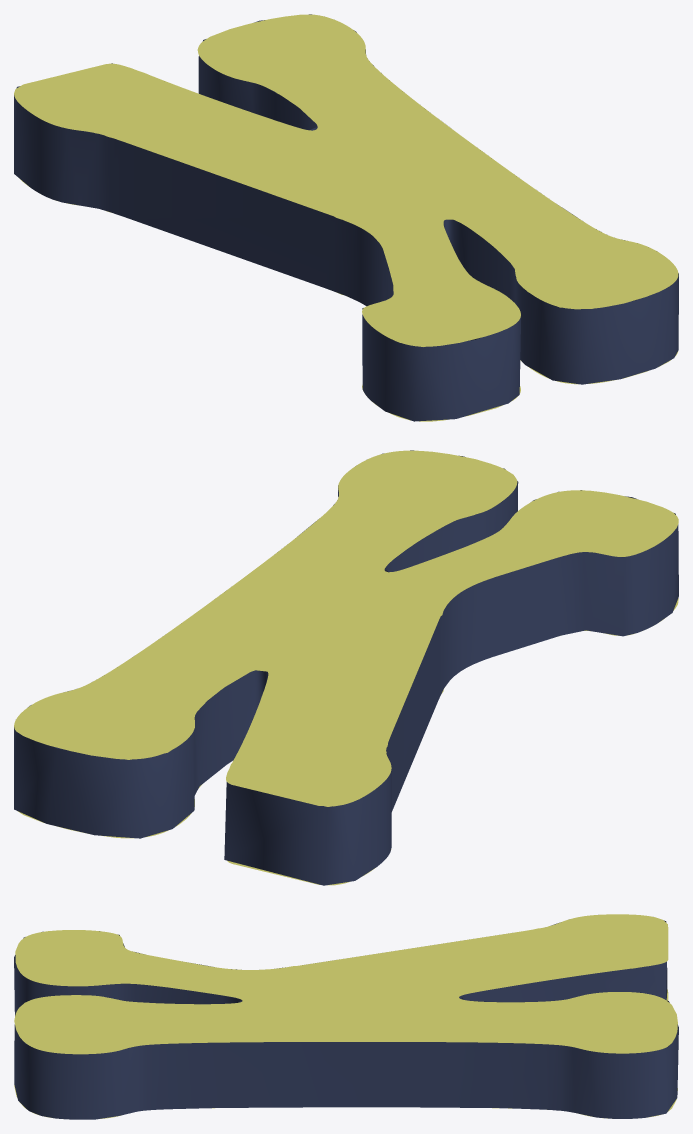
Rendered from k_boss.fbx.
3 views of the same model, one above another, from view 1: azimuth 30°, elevation 25°; view 2: azimuth 150°, elevation 25°; view 3: azimuth 270°, elevation 25° (orthographic). The views are drawn at different scales.
Visible parts, largest first — view 1: K; view 2: K; view 3: K.
Boxes of the visible parts, left/top/right/bottom form: K: left=14, top=14, right=678, bottom=421; K: left=14, top=450, right=678, bottom=885; K: left=14, top=914, right=678, bottom=1119.
Size of the model in its own units: 0.7334 by 0.1599 by 1.47.
